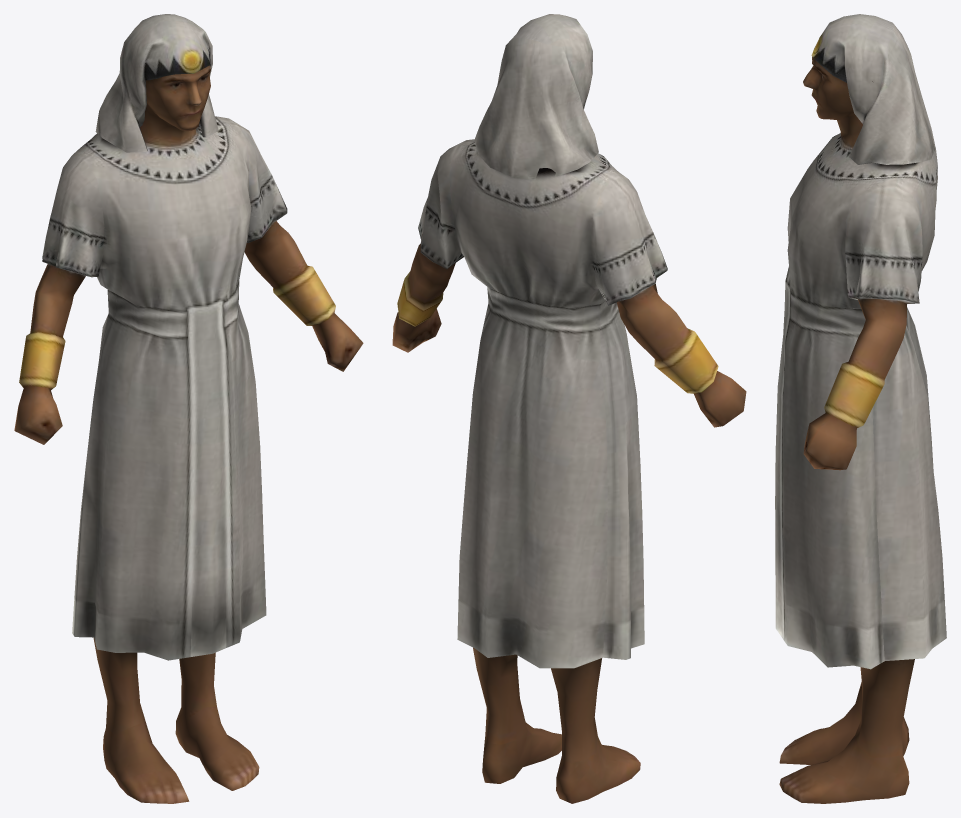
Rendered from 62-priest.glb.
The picture shows the model from 3 angles, left to right: view 1: azimuth 30°, elevation 25°; view 2: azimuth 150°, elevation 25°; view 3: azimuth 270°, elevation 25°; orthographic projection.
Size of the model in its own units: 1.04 by 2.16 by 0.4441.
Materials: 1 (1 with a texture image).
